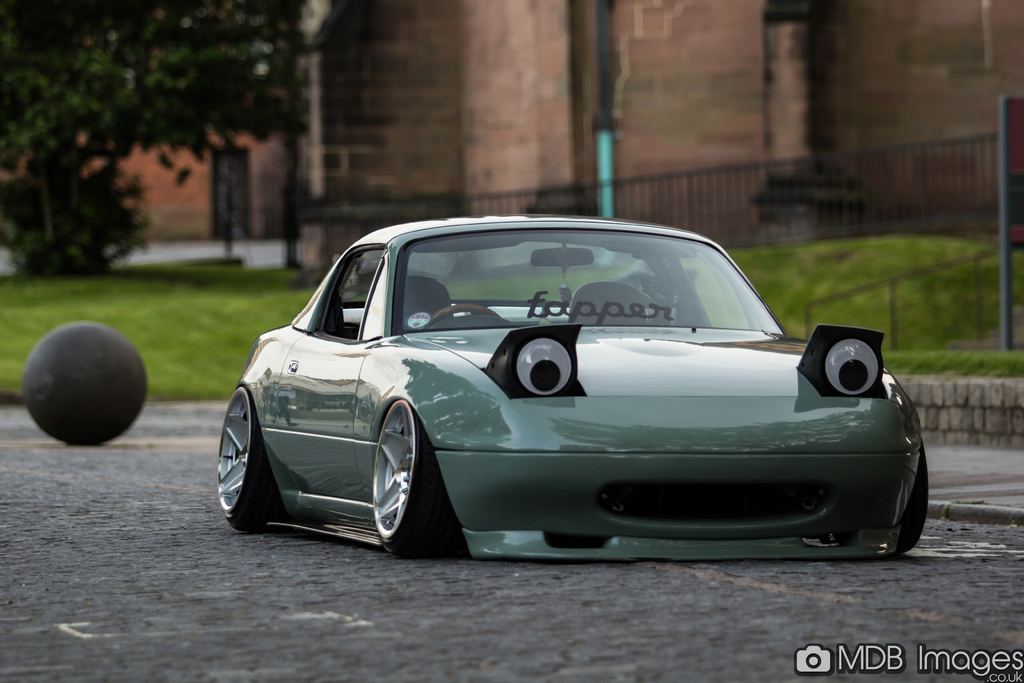Ball: (19, 320, 152, 448)
